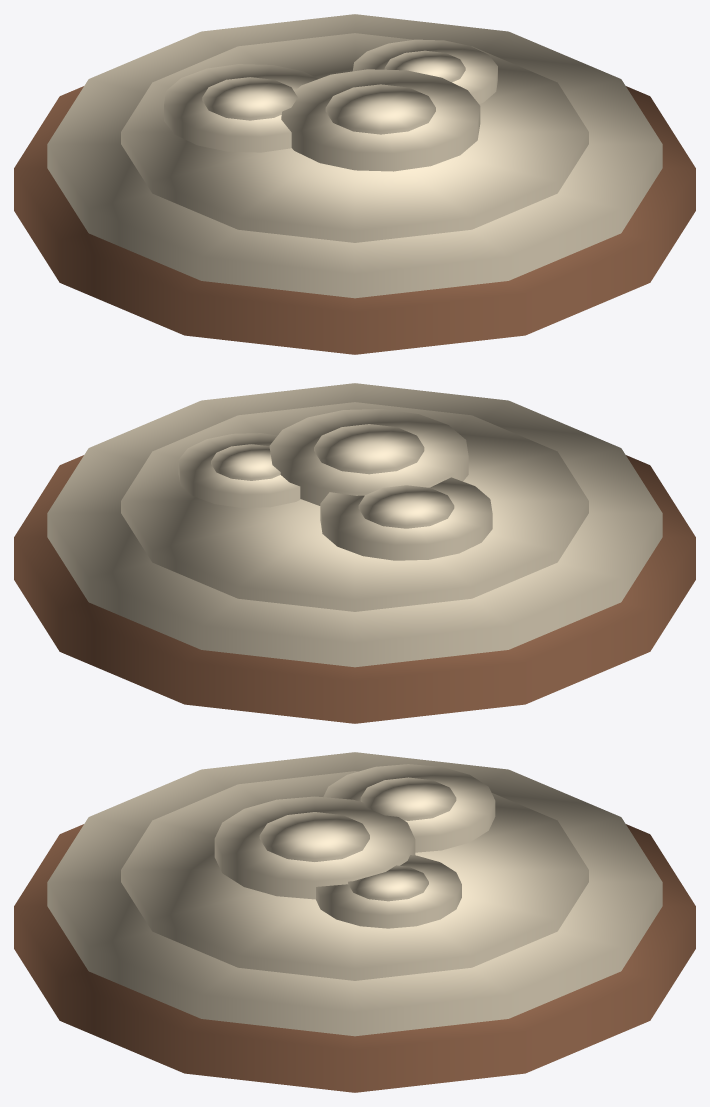
The model's file is pad_stock.glb.
3 views of the same model, one above another, from view 1: azimuth 30°, elevation 25°; view 2: azimuth 150°, elevation 25°; view 3: azimuth 270°, elevation 25° (orthographic).
Parts seen in each view (by area): view 1: pad_pad_stock; view 2: pad_pad_stock; view 3: pad_pad_stock.
Part boxes in pixels (x1,y1,x2,y2): pad_pad_stock: (14,14,695,354); pad_pad_stock: (14,383,695,723); pad_pad_stock: (14,752,695,1092).
Size of the model in its own units: 2.04 by 0.384 by 2.04.
